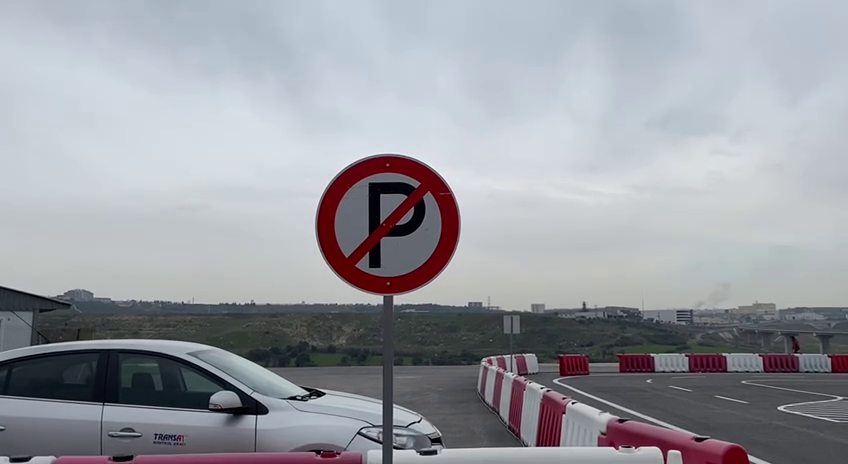noparking: (310, 149, 467, 303)
